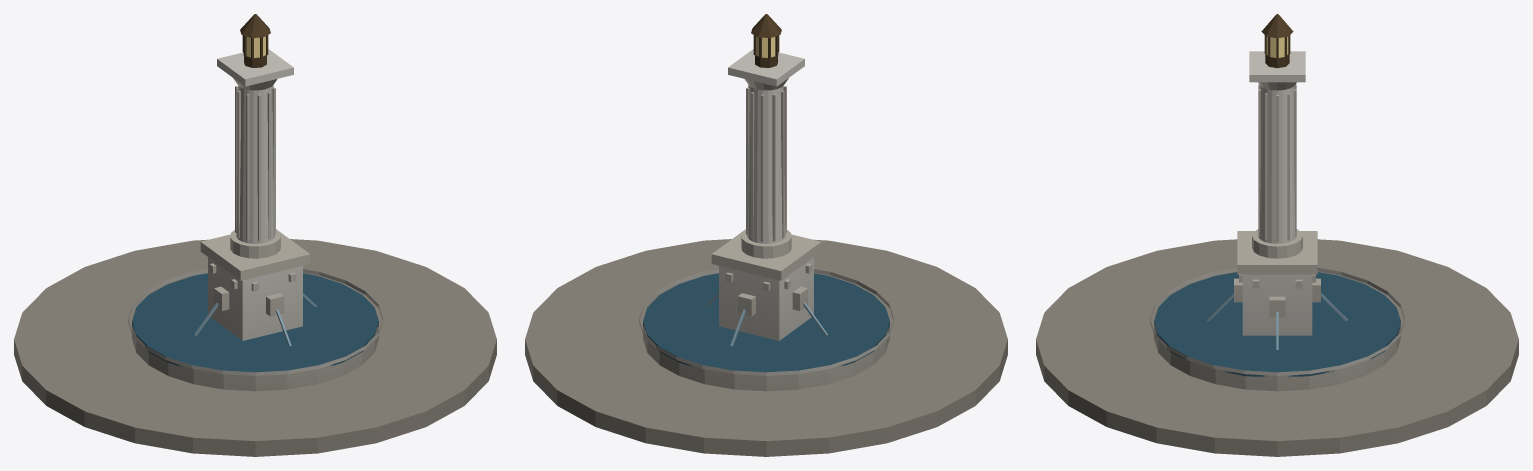
File: dillon.glb
The picture shows the model from 3 angles, left to right: view 1: azimuth 30°, elevation 25°; view 2: azimuth 150°, elevation 25°; view 3: azimuth 270°, elevation 25°; orthographic projection.
Visible parts, largest first — view 1: dillon_lod0; view 2: dillon_lod0; view 3: dillon_lod0.
Part boxes in pixels (box(x1,y1,x2,y2)): dillon_lod0: box(14, 14, 496, 456); dillon_lod0: box(525, 14, 1007, 456); dillon_lod0: box(1036, 14, 1518, 456).
Size of what is drawn, in the model's own units: 18 by 14 by 18.
